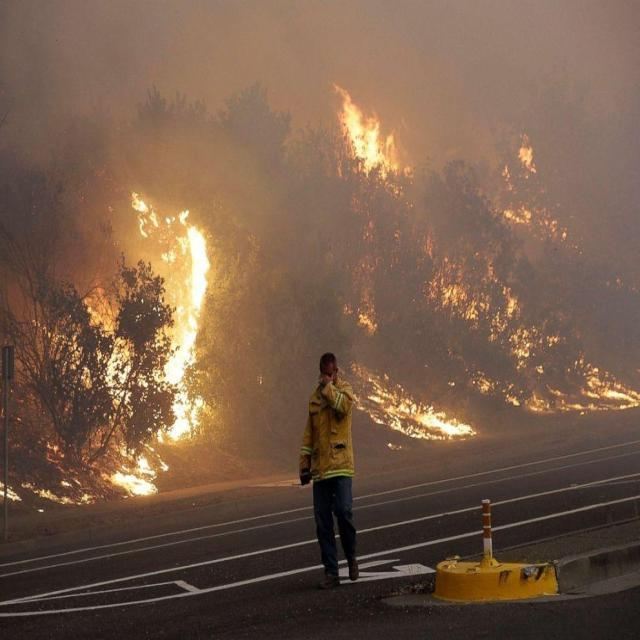Fire: (327, 81, 640, 452), (1, 191, 212, 513)
Smoke: (0, 1, 640, 475)
